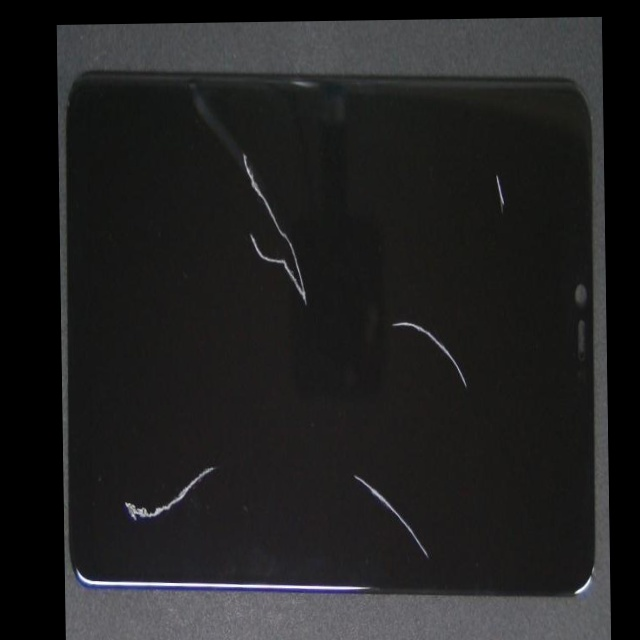scratch: (297, 337, 592, 640), (306, 207, 609, 491), (140, 265, 303, 640), (225, 214, 416, 343)
